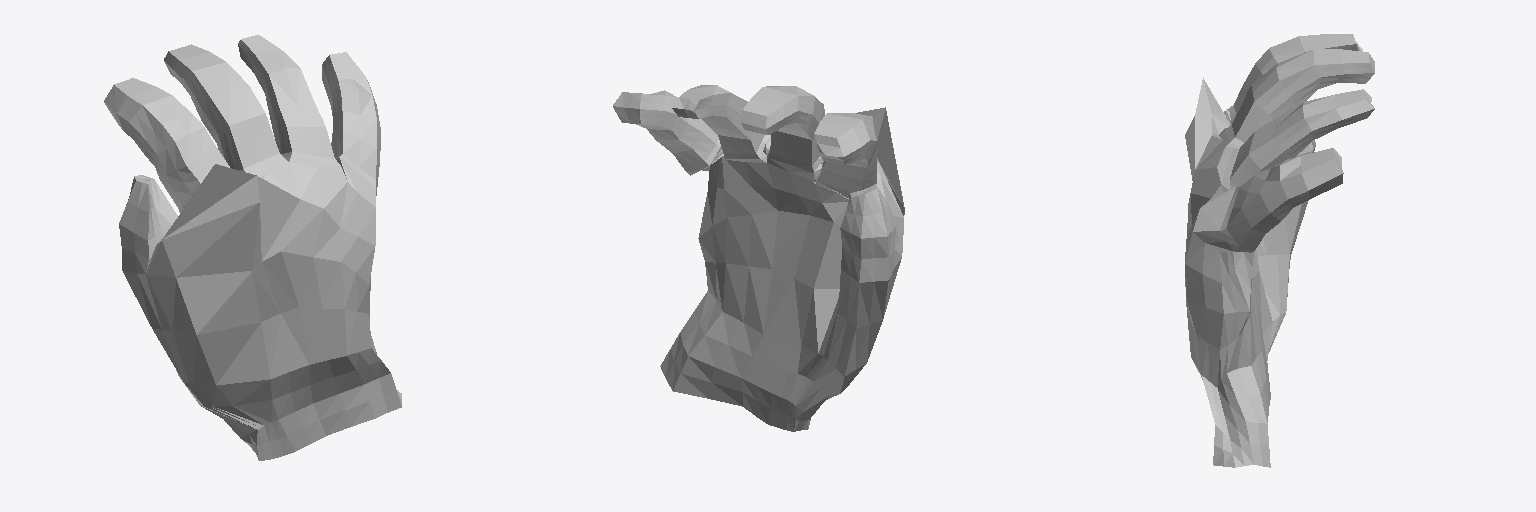
The model's file is hand_sub2_triang0032.obj.
3 views of the same model, side by side, from view 1: azimuth 30°, elevation 25°; view 2: azimuth 150°, elevation 25°; view 3: azimuth 270°, elevation 25° (orthographic).
Parts seen in each view (by area): view 1: Hand; view 2: Hand; view 3: Hand.
Boxes of the visible parts, <box> form: Hand: <box>104,35,401,460</box>; Hand: <box>613,85,904,431</box>; Hand: <box>1185,34,1374,467</box>.
Size of the model in its own units: 2.92 by 4.03 by 1.88.